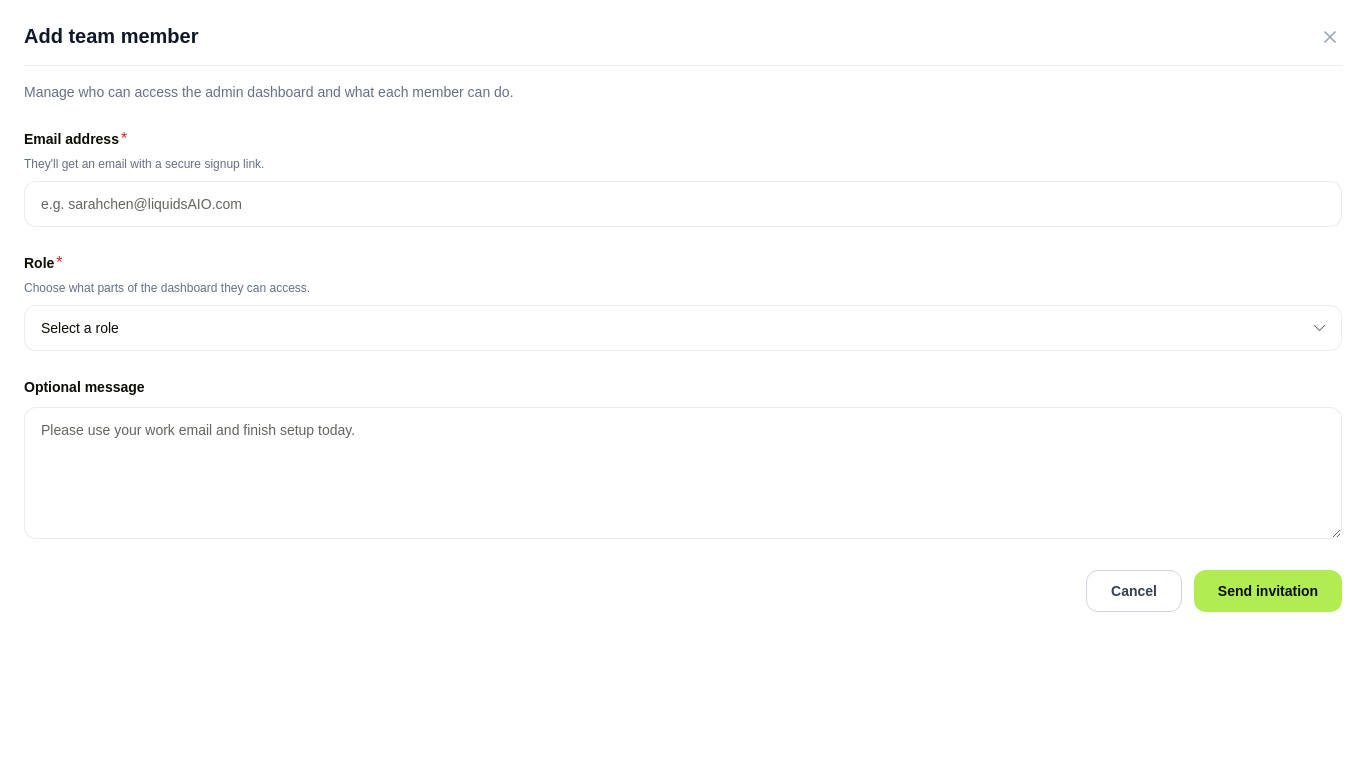
Test: AddTeamMemberModal › shows validation errors for invalid submissions
The image size is (1366, 768).
Click the button "Send invitation": (1268, 591) [1194,570,1342,612]
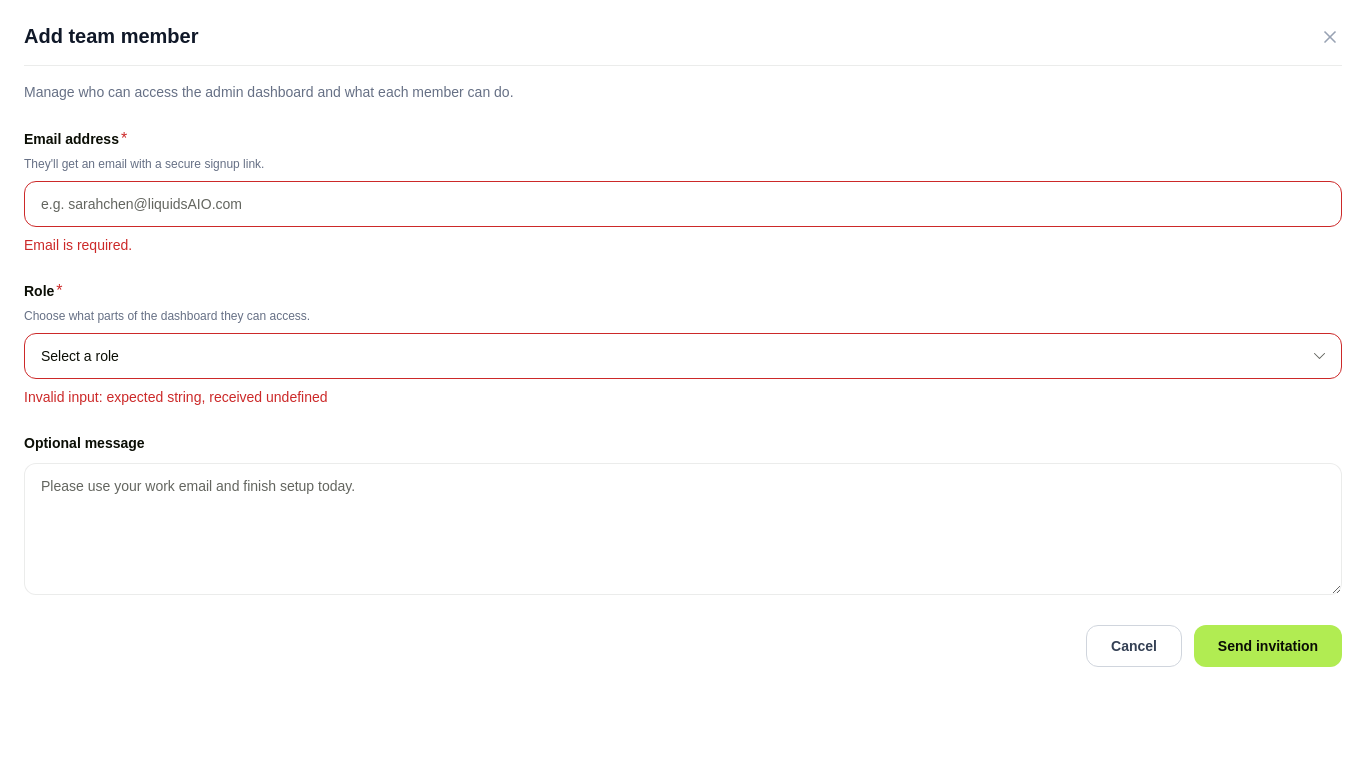
Result: the text "Email is required." is shown at [24,237,132,253]
